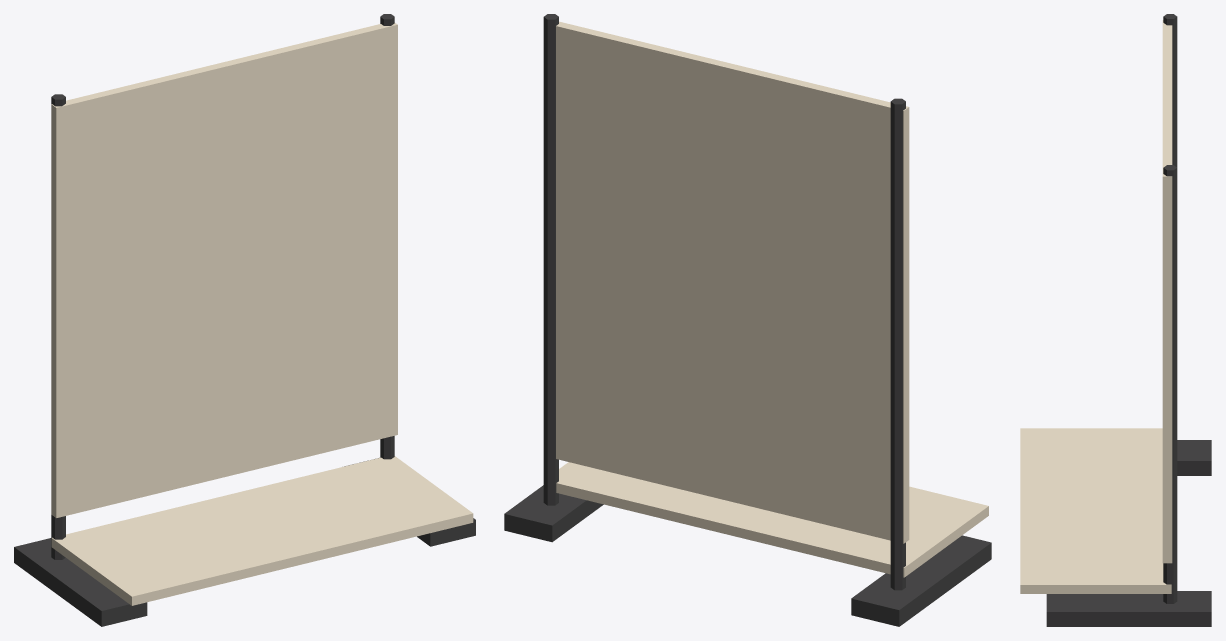
3 views of the same model, side by side, from view 1: azimuth 30°, elevation 25°; view 2: azimuth 150°, elevation 25°; view 3: azimuth 270°, elevation 25° (orthographic). The views are drawn at different scales.
Parts seen in each view (by area): view 1: Seamless backdrop, Backdrop sweep, Backdrop foot, Backdrop foot.001, Backdrop support; view 2: Seamless backdrop, Backdrop sweep, Backdrop support, Backdrop support.001, Backdrop foot, Backdrop foot.001; view 3: Backdrop sweep, Seamless backdrop, Backdrop foot.001, Backdrop support.001, Backdrop foot, Backdrop support.
Boxes of the visible parts, x1,y1,x2,y2 form: Seamless backdrop: (51, 22, 397, 517); Backdrop sweep: (51, 456, 473, 605); Backdrop foot: (14, 538, 147, 626); Backdrop foot.001: (344, 457, 475, 546); Backdrop support: (51, 94, 65, 559); Seamless backdrop: (556, 21, 909, 543); Backdrop sweep: (556, 462, 988, 577); Backdrop support: (890, 98, 905, 590); Backdrop support.001: (543, 14, 558, 505); Backdrop foot: (851, 535, 991, 626); Backdrop foot.001: (504, 485, 603, 542); Backdrop sweep: (1020, 428, 1171, 593); Seamless backdrop: (1162, 20, 1172, 563); Backdrop foot.001: (1046, 591, 1211, 626); Backdrop support.001: (1163, 165, 1177, 603); Backdrop foot: (1177, 440, 1211, 475); Backdrop support: (1163, 14, 1177, 167).
Size of the model in its own units: 148 by 180 by 69.5.
